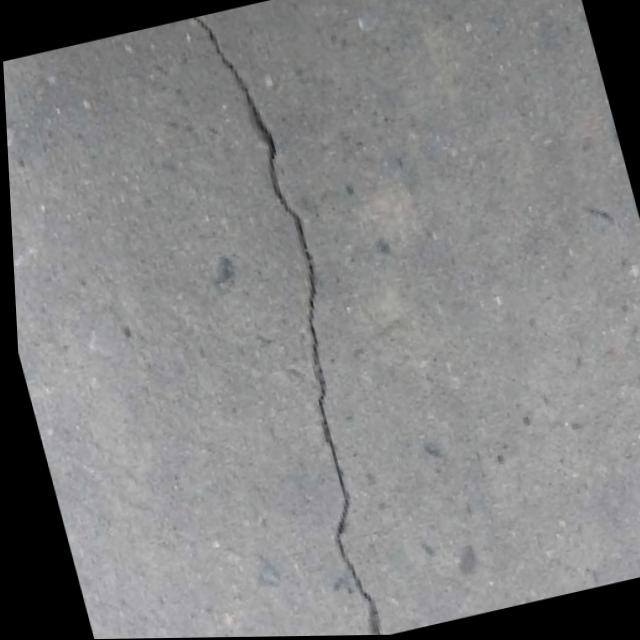Crack: (152, 0, 444, 638)
